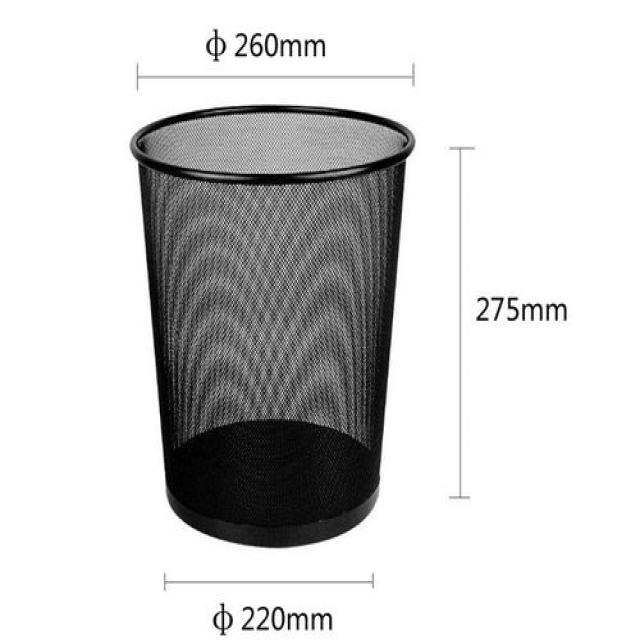dustbin: (123, 95, 421, 557)
